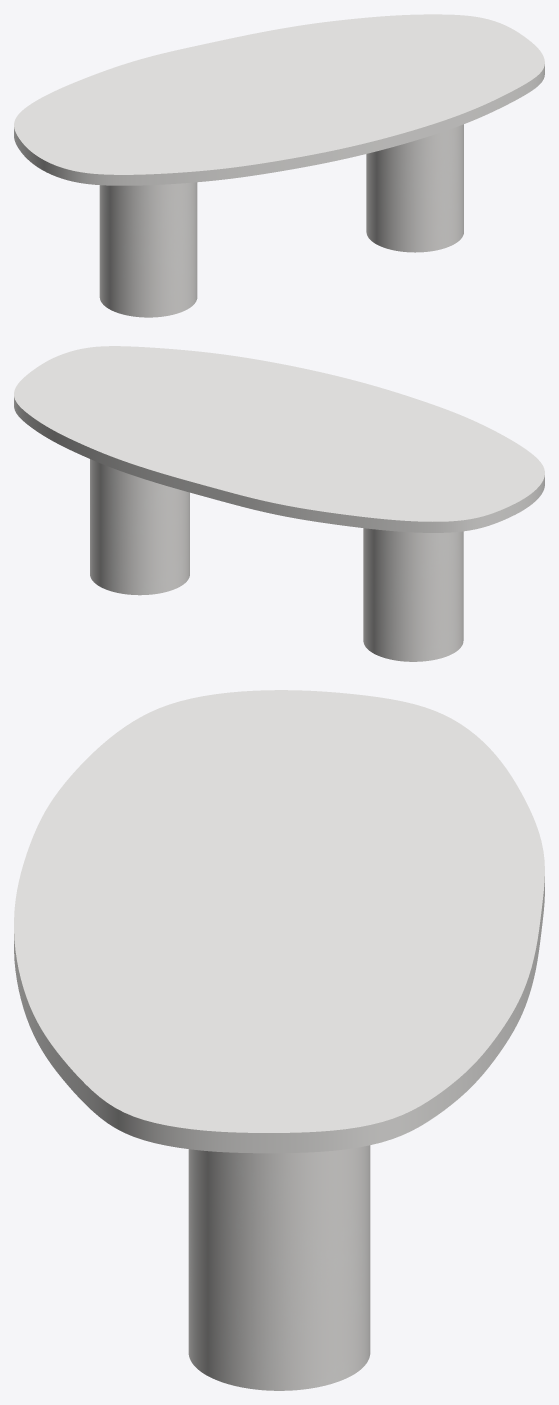
The model's file is purewhite_danish_standard_stream.glb.
3 renders of one model, top to bottom at view 1: azimuth 30°, elevation 25°; view 2: azimuth 150°, elevation 25°; view 3: azimuth 270°, elevation 25°, orthographic. The views are drawn at different scales.
Parts seen in each view (by area): view 1: standard_danish, stream; view 2: standard_danish, stream; view 3: standard_danish, stream.
Boxes of the visible parts, x1,y1,x2,y2 form: standard_danish: (14,14,544,185); stream: (99,124,463,317); standard_danish: (14,346,544,532); stream: (90,459,463,661); standard_danish: (14,690,544,1153); stream: (188,1145,370,1390).
Size of the model in its own units: 7.5 by 2.5 by 3.8.
Materials: 1 (1 with a texture image).
